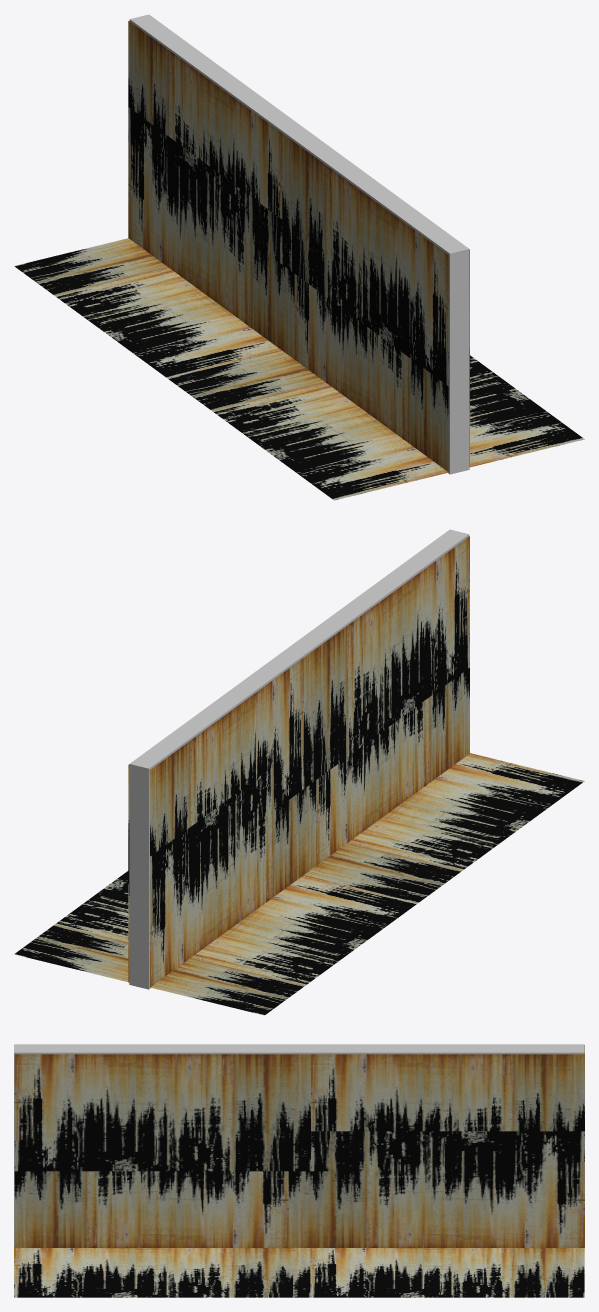
The model's file is TiledBrick9.FBX.
The picture shows the model from 3 angles, top to bottom: view 1: azimuth 30°, elevation 25°; view 2: azimuth 150°, elevation 25°; view 3: azimuth 270°, elevation 25°; orthographic projection. The views are drawn at different scales.
Parts seen in each view (by area): view 1: TiledBrick9; view 2: TiledBrick9; view 3: TiledBrick9.
Part boxes in pixels (bbox=[...]): TiledBrick9: bbox=[14, 14, 584, 500]; TiledBrick9: bbox=[14, 529, 584, 1015]; TiledBrick9: bbox=[14, 1044, 584, 1297].
Size of the model in its own units: 264 by 222 by 584.
